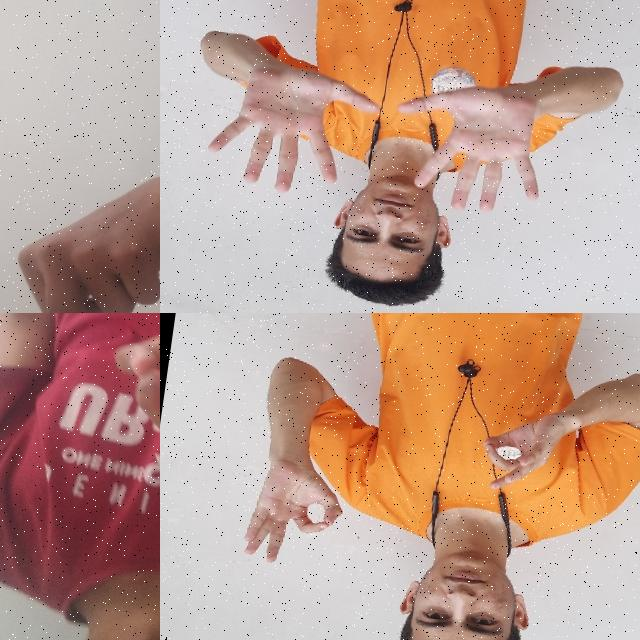Middle Finger: (0, 141, 160, 313)
Moutza: (379, 60, 567, 236), (195, 50, 386, 217)
Okay: (230, 442, 356, 579), (93, 313, 160, 537), (471, 391, 576, 506)
